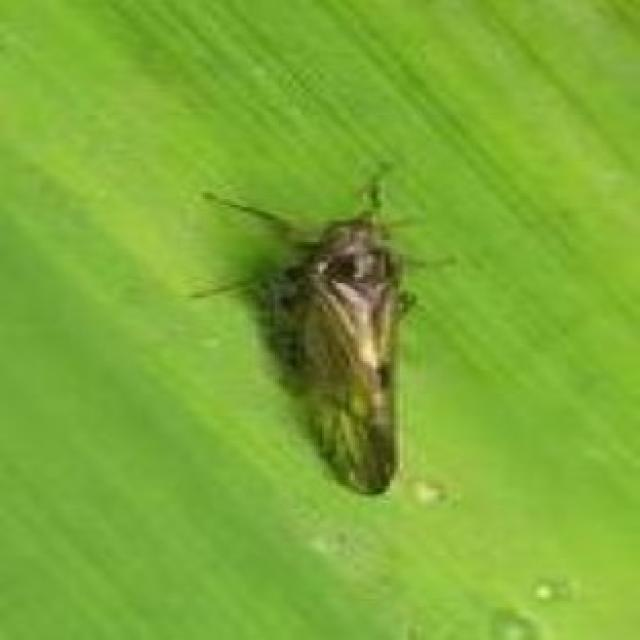brown plant hopper: (201, 181, 449, 492)
